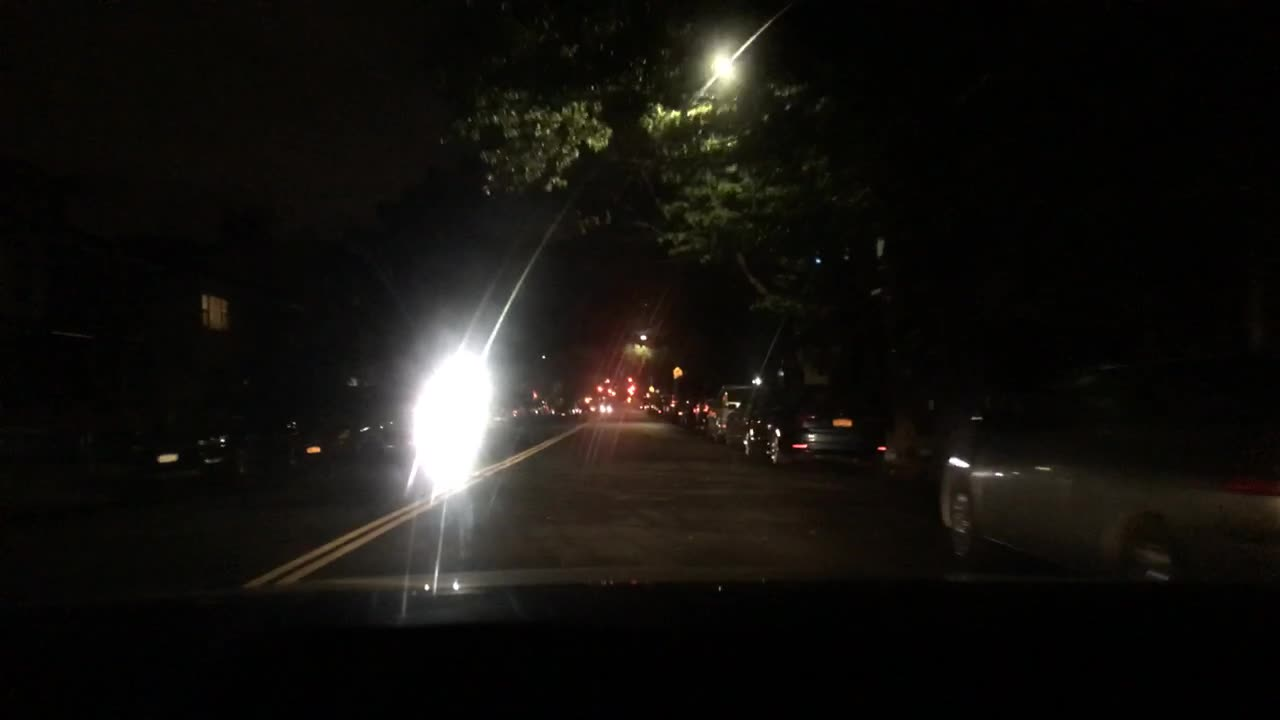car: (940, 354, 1280, 595), (126, 378, 303, 507), (1, 334, 142, 462), (770, 386, 885, 472), (308, 385, 415, 456), (872, 394, 944, 489), (719, 385, 780, 458), (706, 382, 751, 439), (692, 394, 718, 435), (658, 392, 681, 423), (674, 394, 694, 426), (647, 389, 663, 417), (531, 400, 555, 418), (487, 406, 509, 423), (510, 405, 530, 422), (593, 397, 613, 411), (637, 392, 649, 414), (563, 404, 581, 417), (581, 398, 593, 413)
traffic sign: (671, 367, 683, 379)
